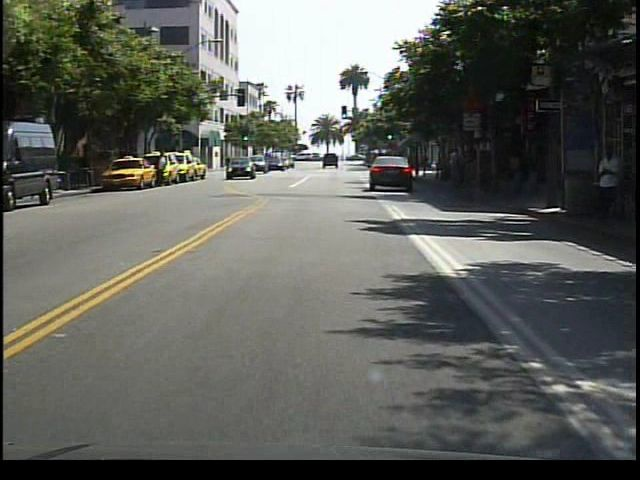person: (587, 141, 625, 226), (155, 150, 171, 190)
